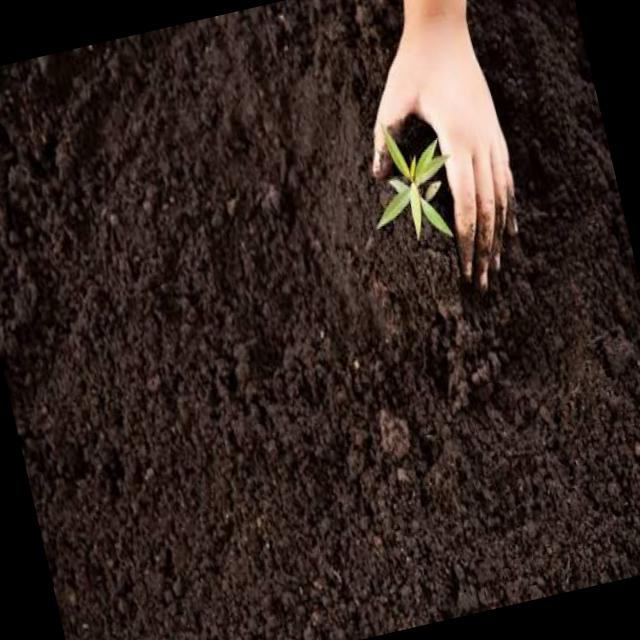suelo_humedo: (2, 25, 640, 628)
